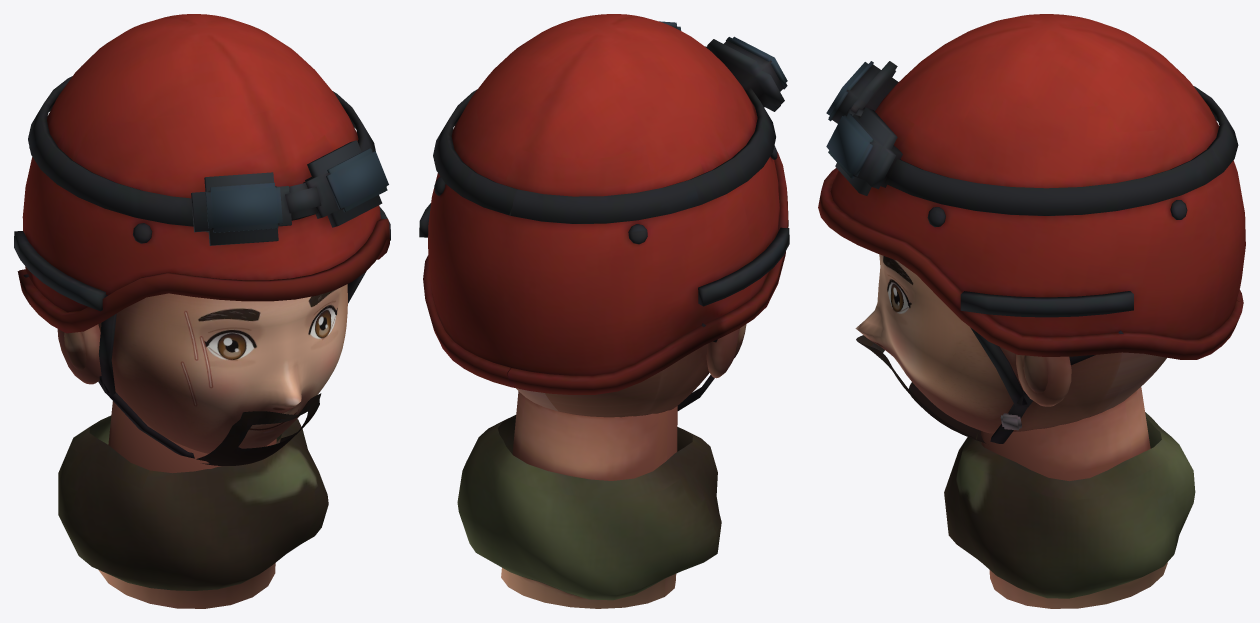
The model's file is cabeza-flamer-m.glb.
3 renders of one model, left to right at view 1: azimuth 30°, elevation 25°; view 2: azimuth 150°, elevation 25°; view 3: azimuth 270°, elevation 25°, orthographic.
Parts seen in each view (by area): view 1: h_Head; view 2: h_Head; view 3: h_Head.
Boxes of the visible parts, x1,y1,x2,y2 form: h_Head: (14, 14, 390, 608); h_Head: (419, 14, 789, 608); h_Head: (818, 14, 1245, 608).
Size of the model in its own units: 0.238 by 0.3967 by 0.2786.
Materials: 1 (1 with a texture image).
